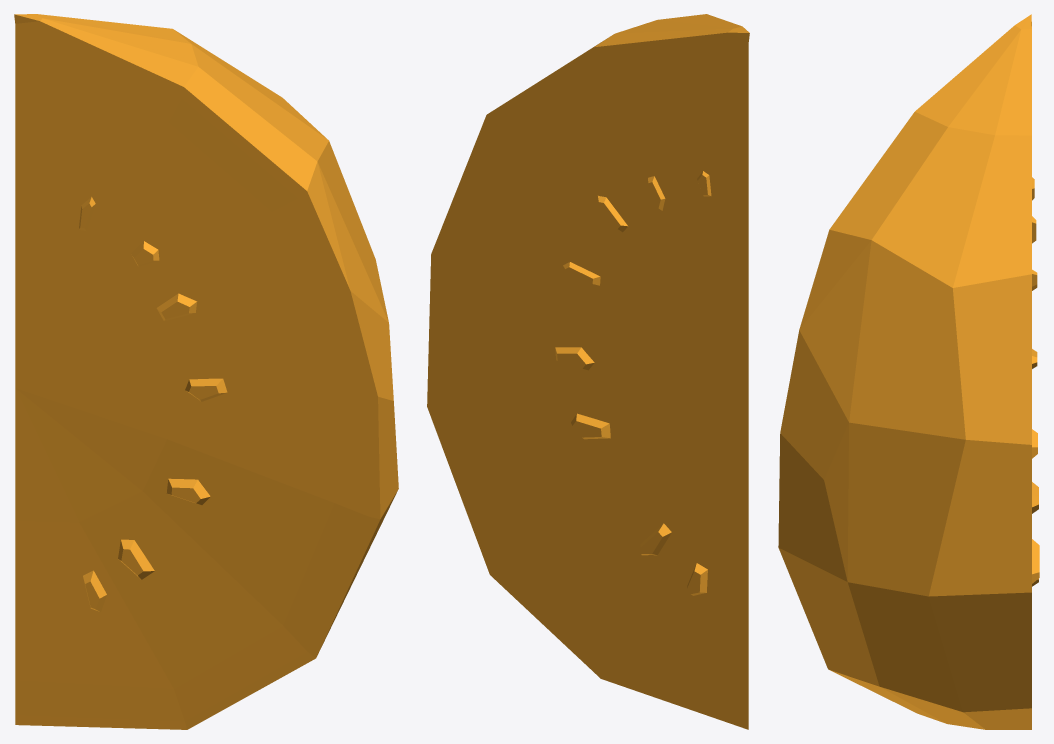
Rendered from SM_Watermelon_Piece_A.fbx.
The picture shows the model from 3 angles, left to right: view 1: azimuth 30°, elevation 25°; view 2: azimuth 150°, elevation 25°; view 3: azimuth 270°, elevation 25°; orthographic projection. The views are drawn at different scales.
Visible parts, largest first — view 1: watermelon-piece-a; view 2: watermelon-piece-a; view 3: watermelon-piece-a.
Part boxes in pixels (bbox=[...]): watermelon-piece-a: bbox=[14, 14, 398, 729]; watermelon-piece-a: bbox=[427, 14, 749, 729]; watermelon-piece-a: bbox=[778, 14, 1039, 729].
Bounding box in the file's own units: 0.2001 × 0.413 × 0.1478.
